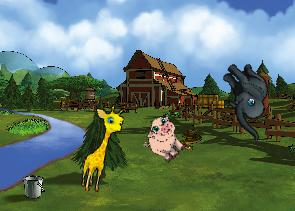elephant: (202, 55, 291, 142)
giraffe: (78, 102, 127, 196)
pig: (137, 111, 193, 167)
